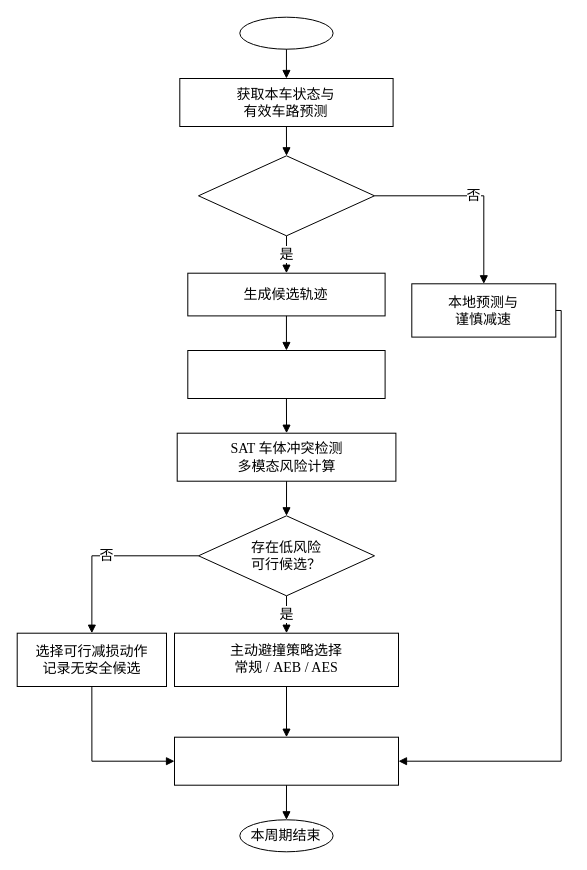
Image size: 587x870. Some labels were removed from this diagram. The shapes that lost their labels are listed below. From the top down, each one's centre as x and y in pixels, then its label:
point 286,32: 开始
point 286,195: 预测覆盖 满足要求？
point 286,374: 运动学与道路 约束筛选
point 286,760: 执行并滚动复核
